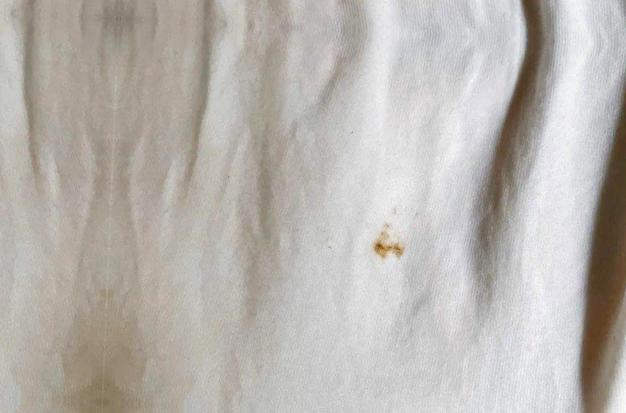stain: (367, 214, 417, 262)
